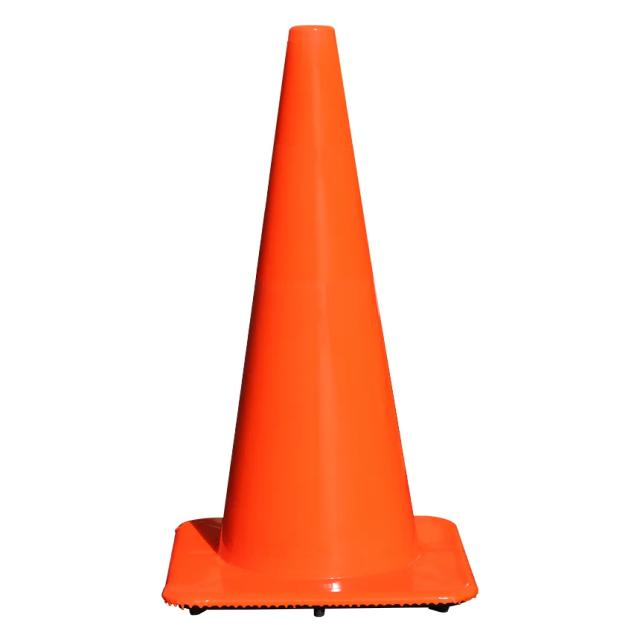traffic cone: (136, 22, 493, 628)
